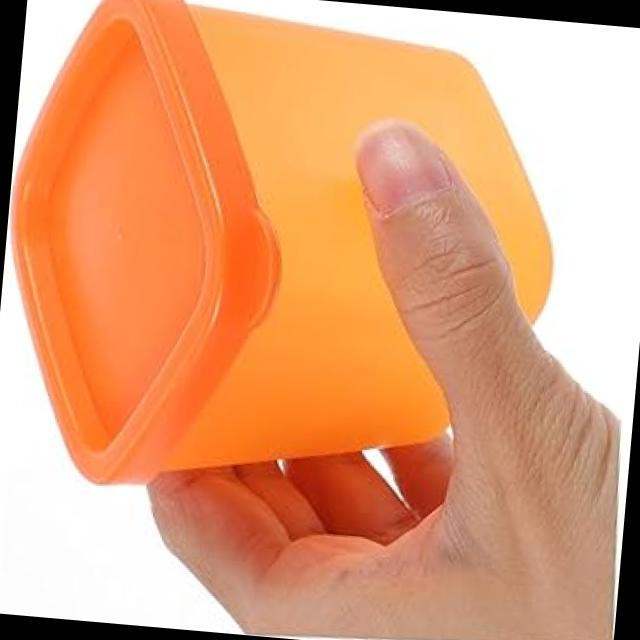plastic_box: (0, 0, 622, 517)
